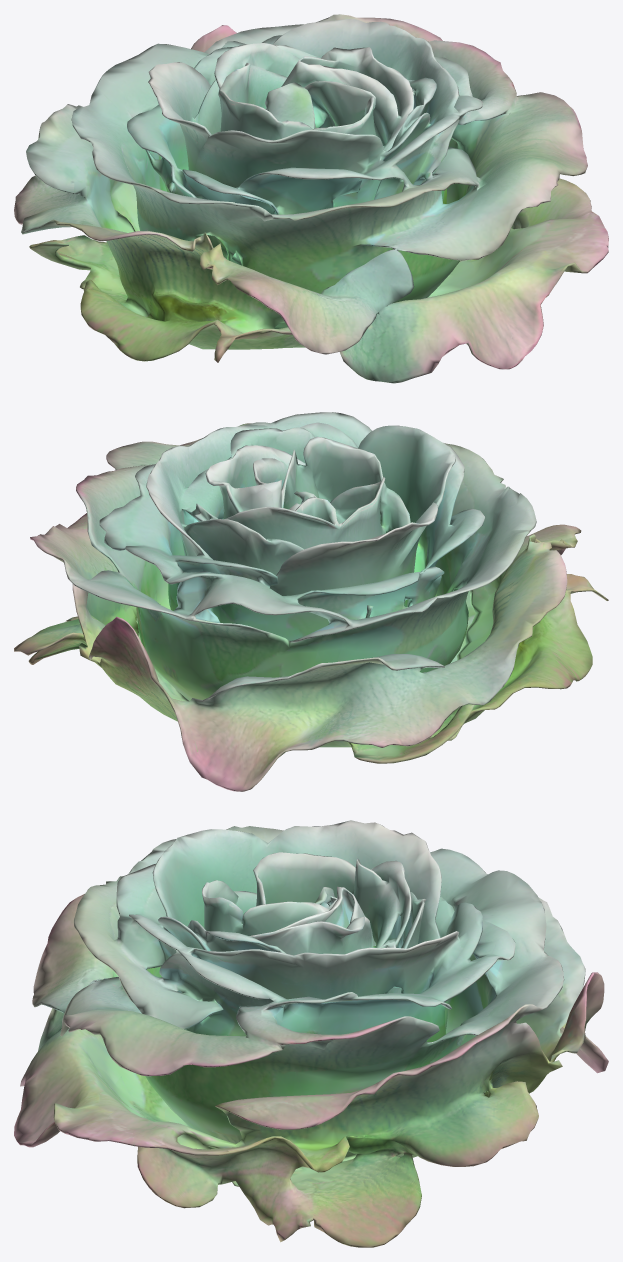
Rendered from rose.glb.
3 views of the same model, one above another, from view 1: azimuth 30°, elevation 25°; view 2: azimuth 150°, elevation 25°; view 3: azimuth 270°, elevation 25° (orthographic). The views are drawn at different scales.
Bounding box in the file's own units: 1.91 × 0.9449 × 1.91.
1 material, 1 textured.
